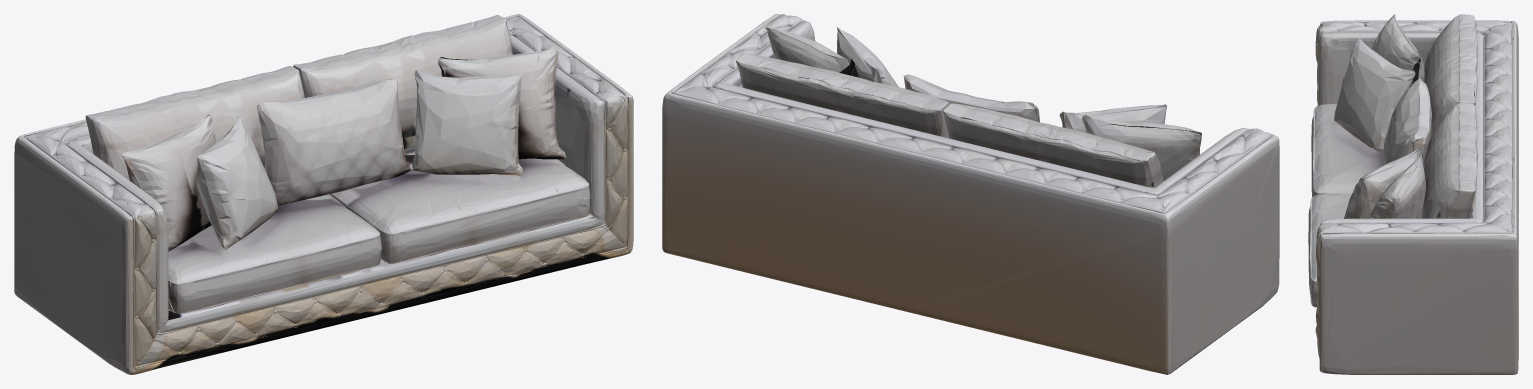
The model's file is edited_mesh.glb.
3 views of the same model, side by side, from view 1: azimuth 30°, elevation 25°; view 2: azimuth 150°, elevation 25°; view 3: azimuth 270°, elevation 25° (orthographic). The views are drawn at different scales.
Parts seen in each view (by area): view 1: solid_001_wire; view 2: solid_001_wire; view 3: solid_001_wire.
Boxes of the visible parts, x1=… form: solid_001_wire: x1=14, y1=14, x2=633, y2=374; solid_001_wire: x1=662, y1=14, x2=1279, y2=374; solid_001_wire: x1=1308, y1=14, x2=1518, y2=374.
Bounding box in the file's own units: 2 × 0.7095 × 0.8163.
Materials: 1 (1 with a texture image).
